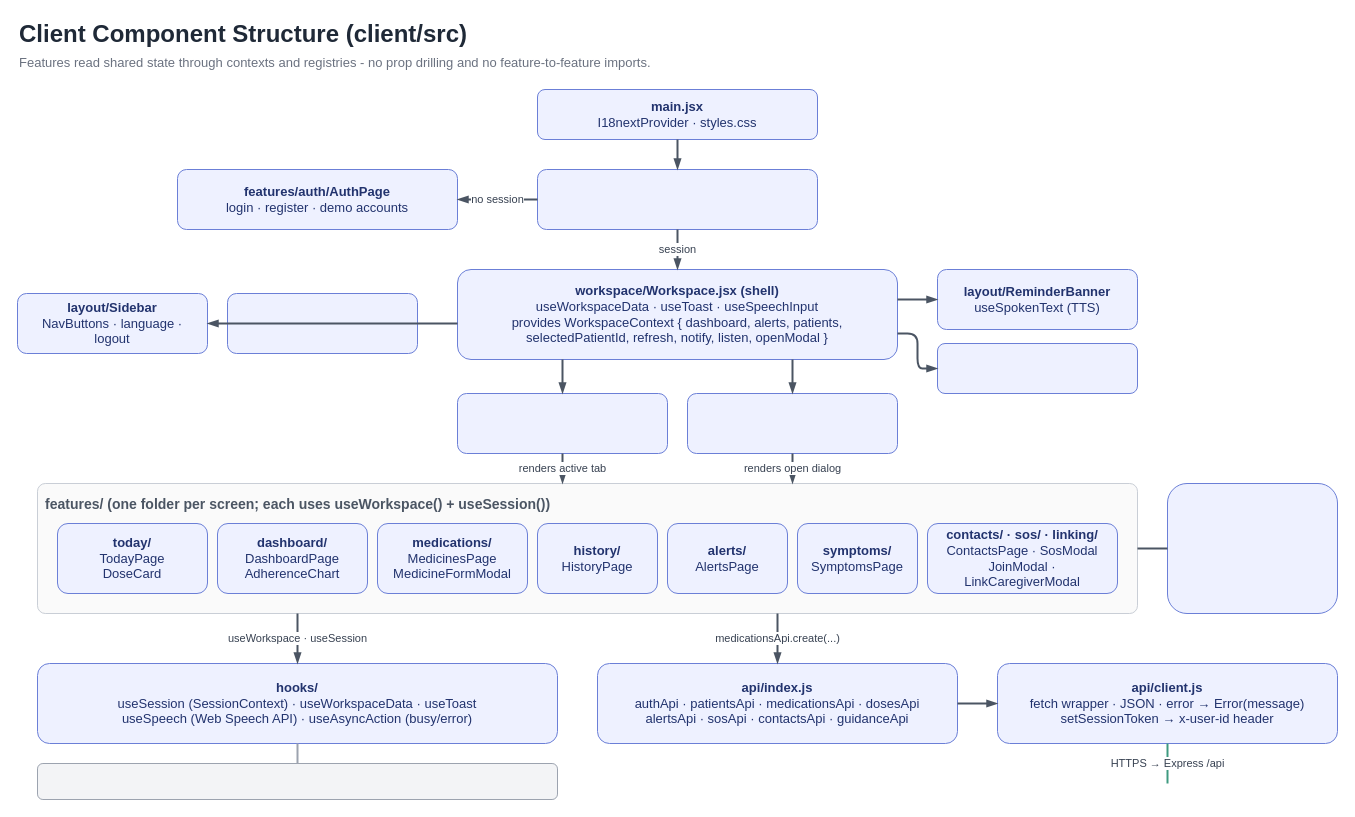
Image size: 1355x817. Some labels were removed from this diagram. Each missing label, with the centre of its shape:
App.jsx useSessionState() → AuthPage | Workspace provides SessionContext: the point at 677,199
components/ui/ SectionHeading ModalShell Stat · Empty · ErrorText: the point at 1252,548
layout/Topbar patient picker · SOS button: the point at 322,323
utils/format.js (Intl date/time helpers, en-IN / hi-IN): the point at 297,781
workspace/ModalHost.jsx modal kind → dialog component: the point at 792,423
workspace/navigation.js nav items per role: the point at 1037,368
workspace/screens.js tab id → page component: the point at 562,423
